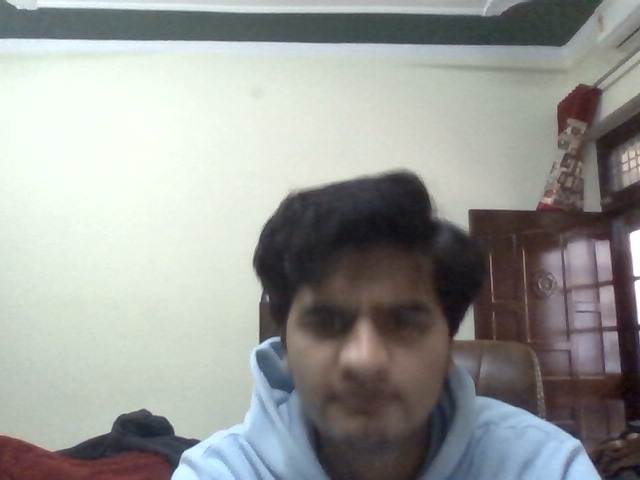anger: (296, 271, 435, 439)
